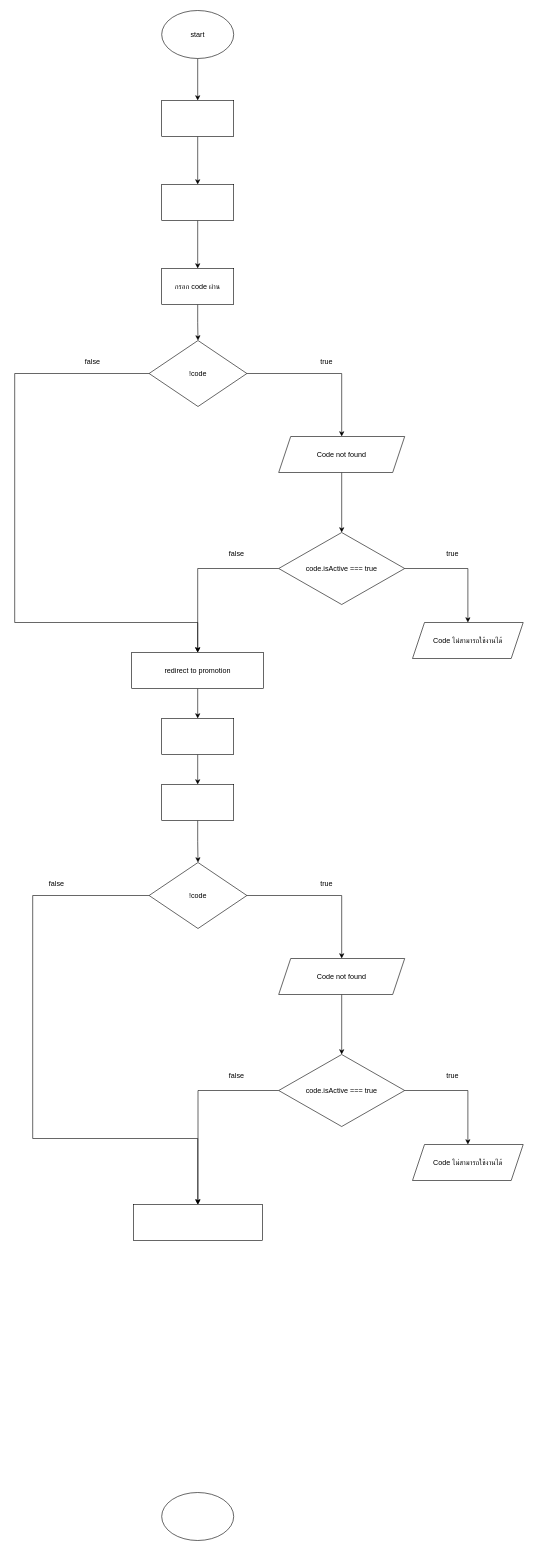
Image size: 534x1551. Some labels were removed from this diagram. Each missing label, with the centre of its shape:
"redirect to Google" goes at point 197,1222.
"stop" goes at point 197,1516.
"กรอกรหัสผ่าน" goes at point 197,802.
"หา code ผ่าน" goes at point 197,202.
"หารหัสผ่าน" goes at point 197,736.
"เข้าเว็บไซต์" goes at point 197,118.
